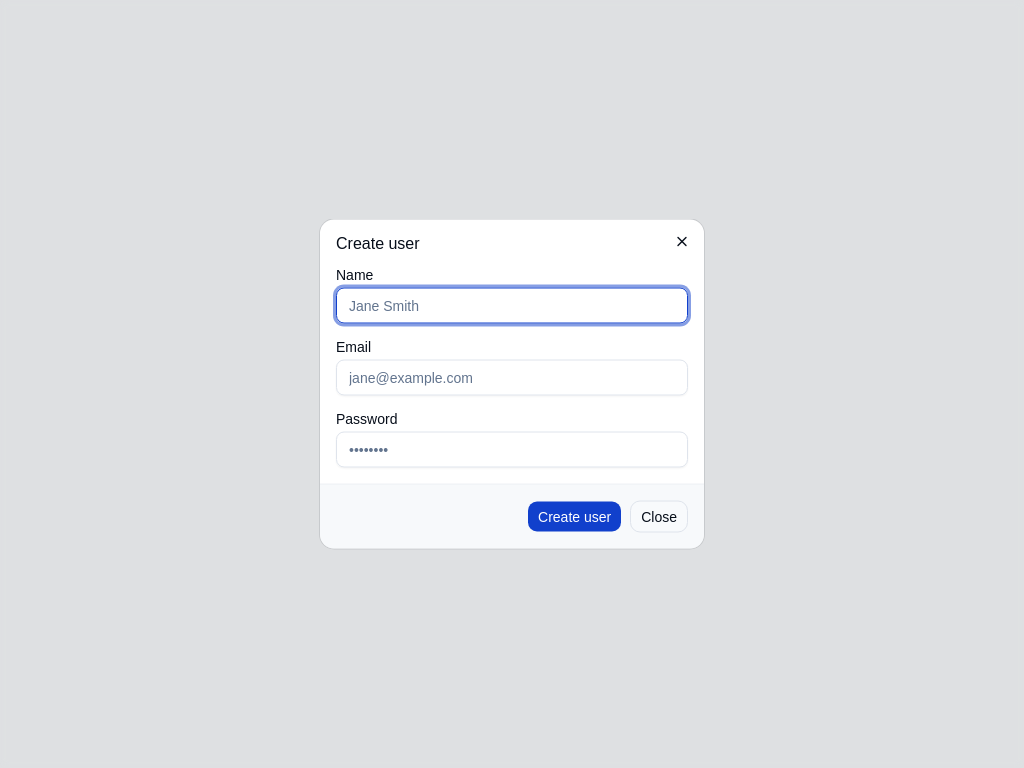
it: UserDialog — create mode — validation › shows error when password is too short
The width and height of the screenshot is (1024, 768).
Type "short" into the password field labelled "Password".
click(512, 450); type("short")  # box [336, 432, 688, 468]
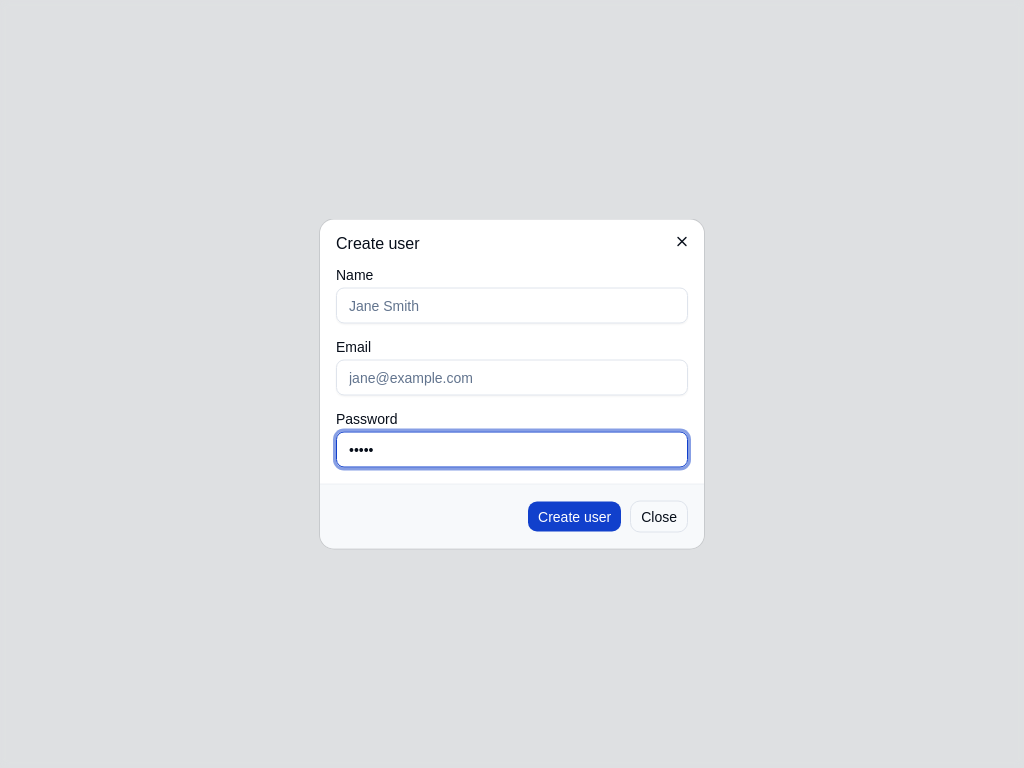
Click the button "Create user".
click(575, 516)  # box [527, 500, 622, 532]
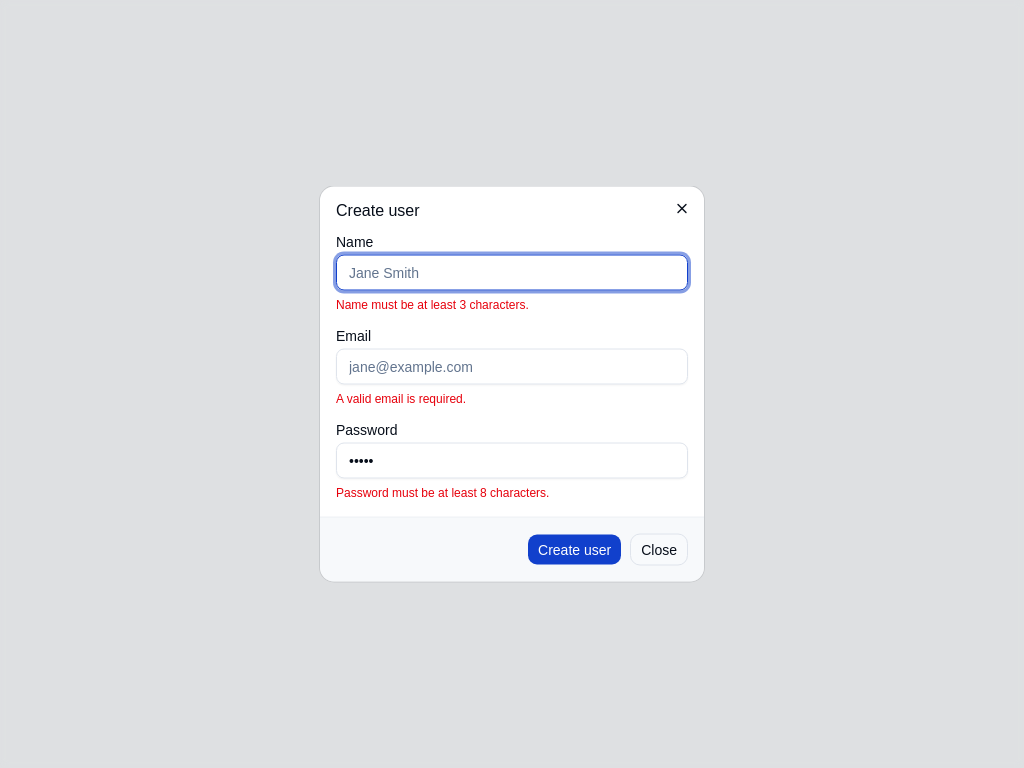
Expected: the text "Password must be at least 8 characters." is shown, [336, 486, 549, 500]
